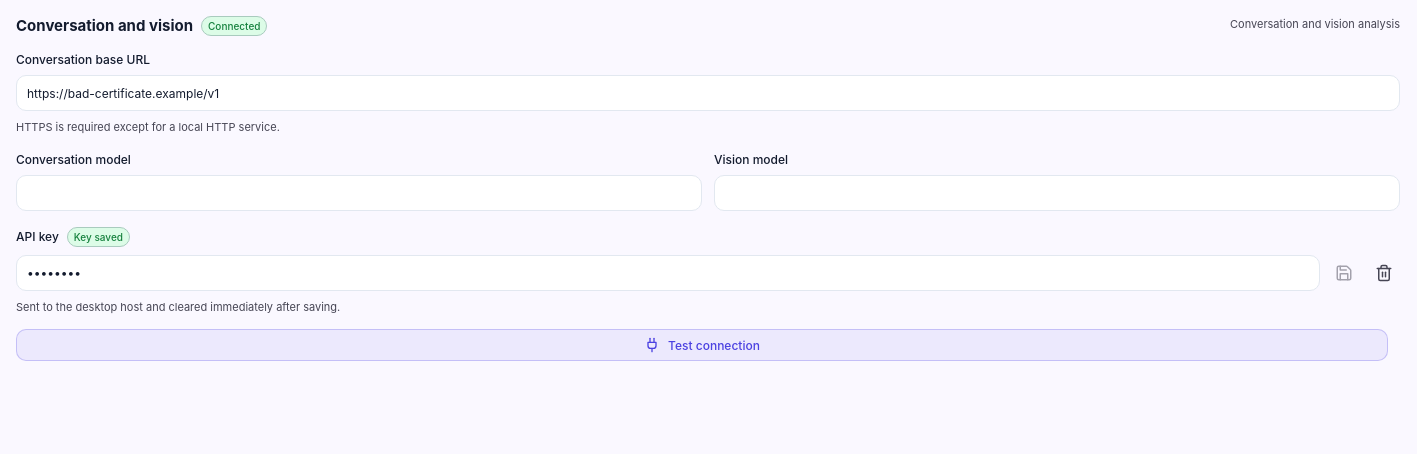
Test: explains that a TLS failure happened before an HTTP request reached the provider
Click the button "Test connection": (702, 345) x1=16 y1=329 x2=1388 y2=361
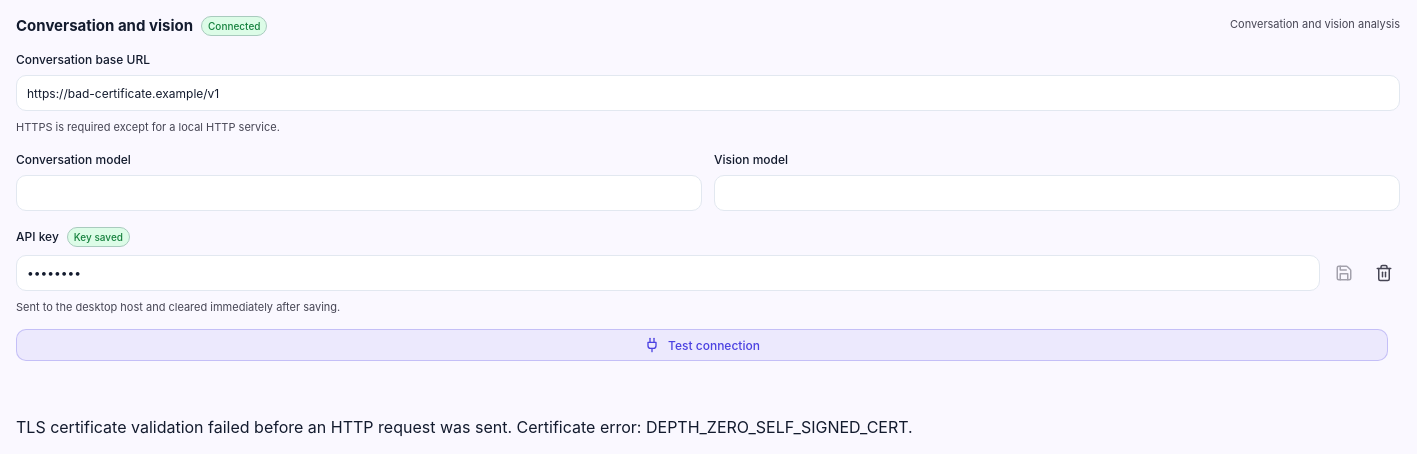
Expected: the message shows "TLS certificate validation failed before an HTTP request was sent", x1=16 y1=417 x2=913 y2=437
Expected: the message shows "DEPTH_ZERO_SELF_SIGNED_CERT", x1=16 y1=417 x2=913 y2=437
